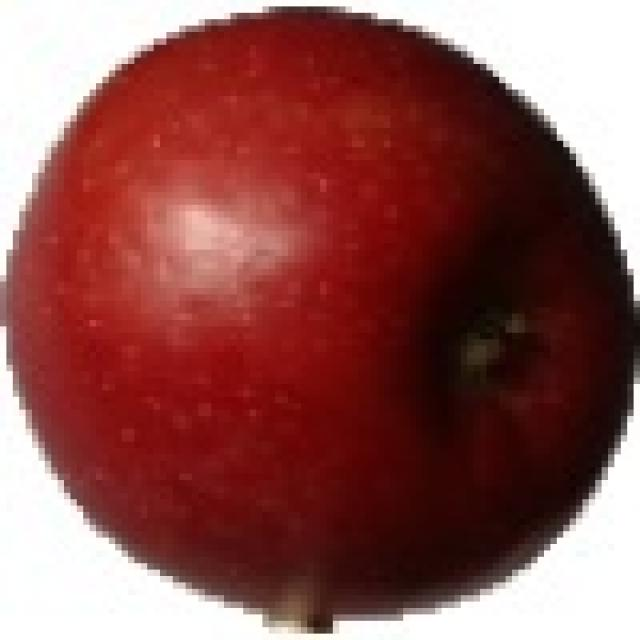apple: (3, 6, 638, 636)
